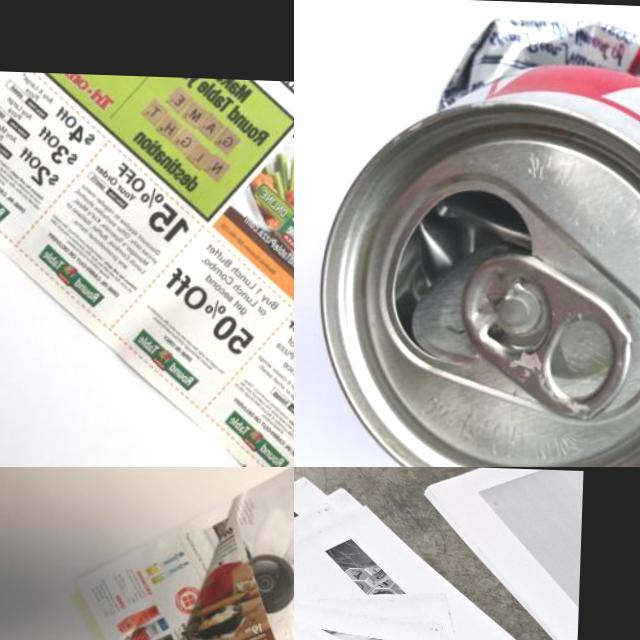aba de lata: (458, 248, 640, 422)
lata: (309, 9, 640, 467)
papel: (0, 69, 294, 467), (294, 468, 582, 640), (66, 467, 294, 640), (416, 467, 583, 640)
